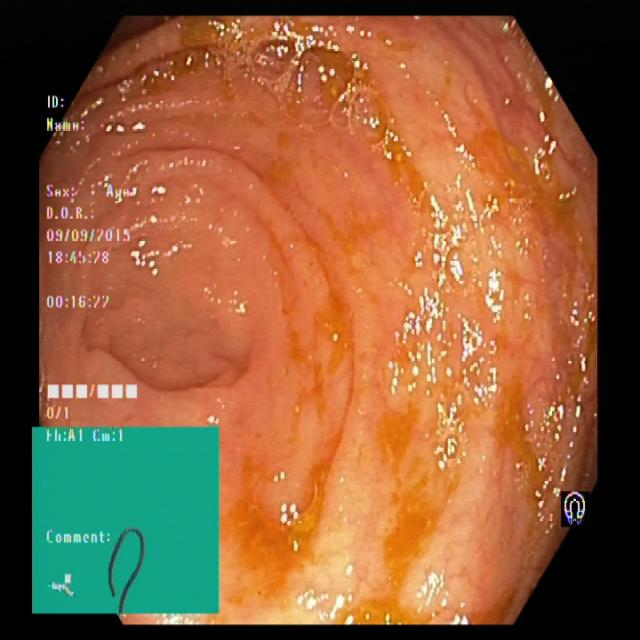normal-cecum: (168, 10, 602, 626), (219, 431, 340, 637), (274, 225, 366, 447)
